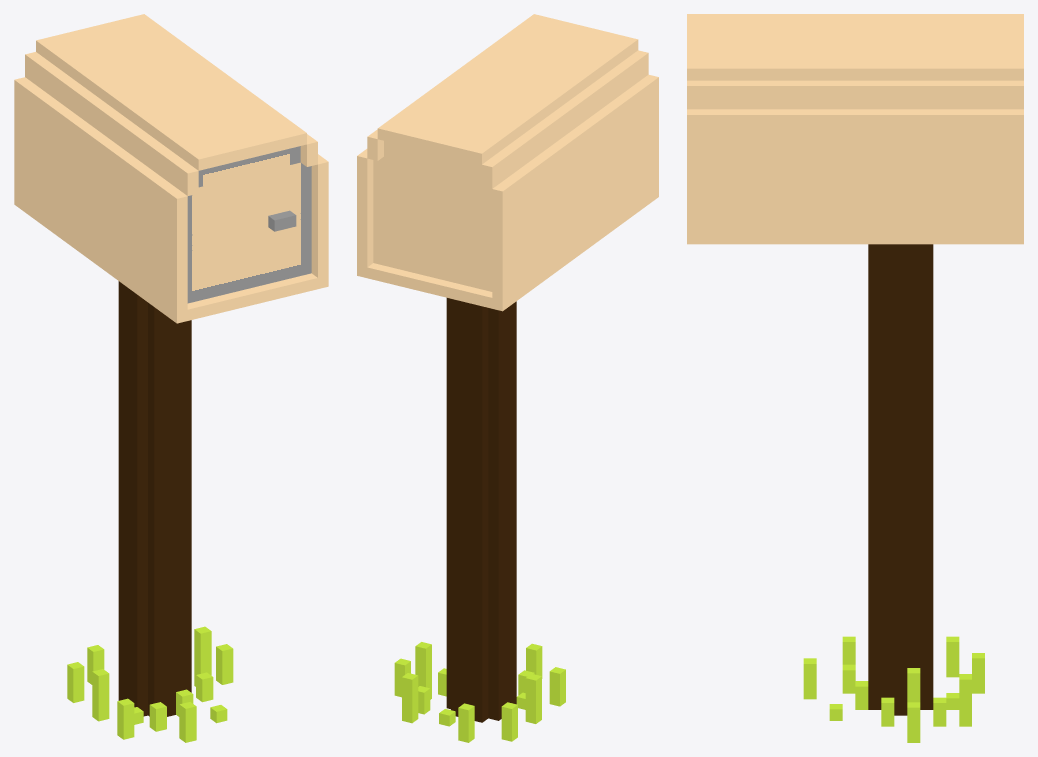
Rendered from 草坪上的邮箱.gltf.
The picture shows the model from 3 angles, left to right: view 1: azimuth 30°, elevation 25°; view 2: azimuth 150°, elevation 25°; view 3: azimuth 270°, elevation 25°; orthographic projection. The views are drawn at different scales.
Parts seen in each view (by area): view 1: Object; view 2: Object; view 3: Object.
Part boxes in pixels (<box>): Object: <box>14,14,328,742</box>; Object: <box>357,14,658,742</box>; Object: <box>687,14,1023,742</box>.
Bounding box in the file's own units: 15 × 56 × 26.
1 material, 1 textured.
